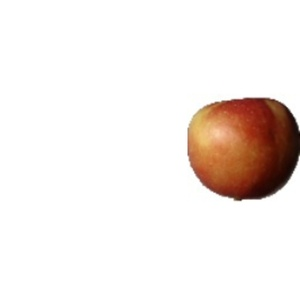maçã braeburn: (188, 94, 299, 203)
